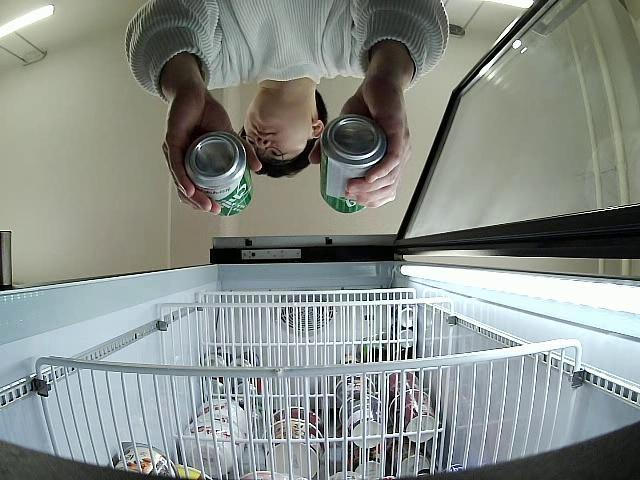12_chilsungCider: (319, 113, 383, 214), (187, 132, 254, 216)
